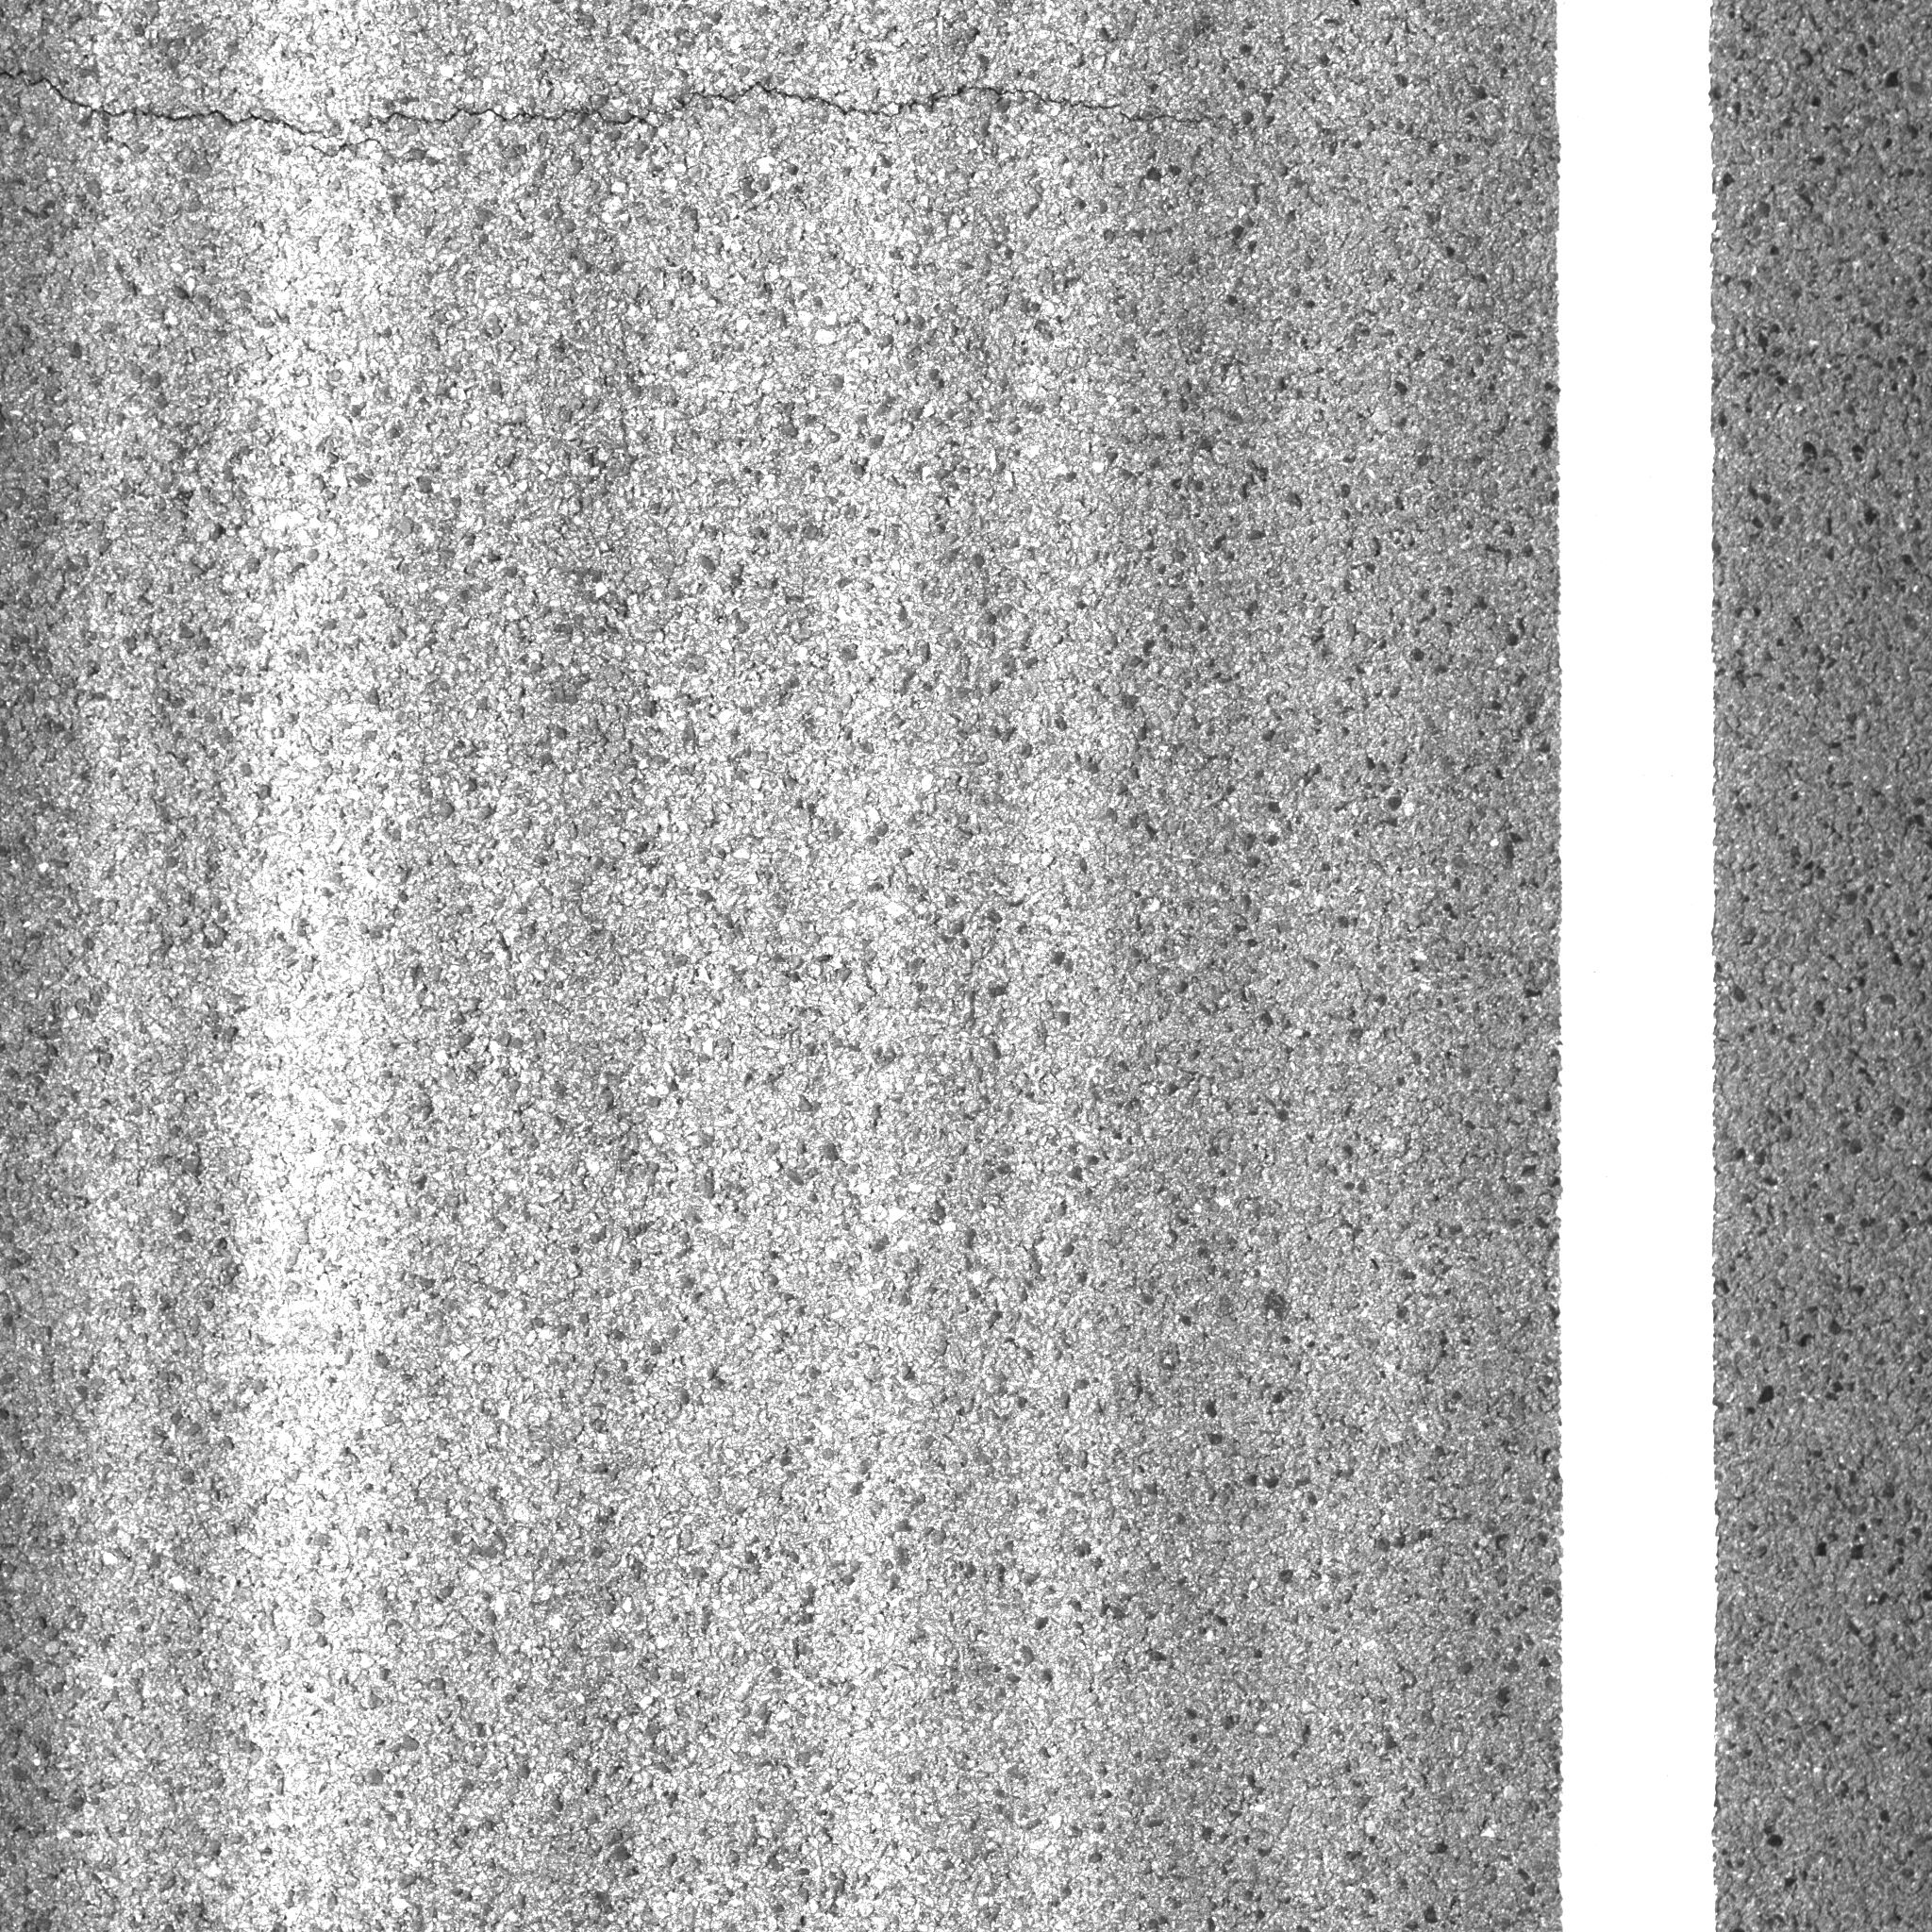transverse: (5, 41, 1493, 196)
